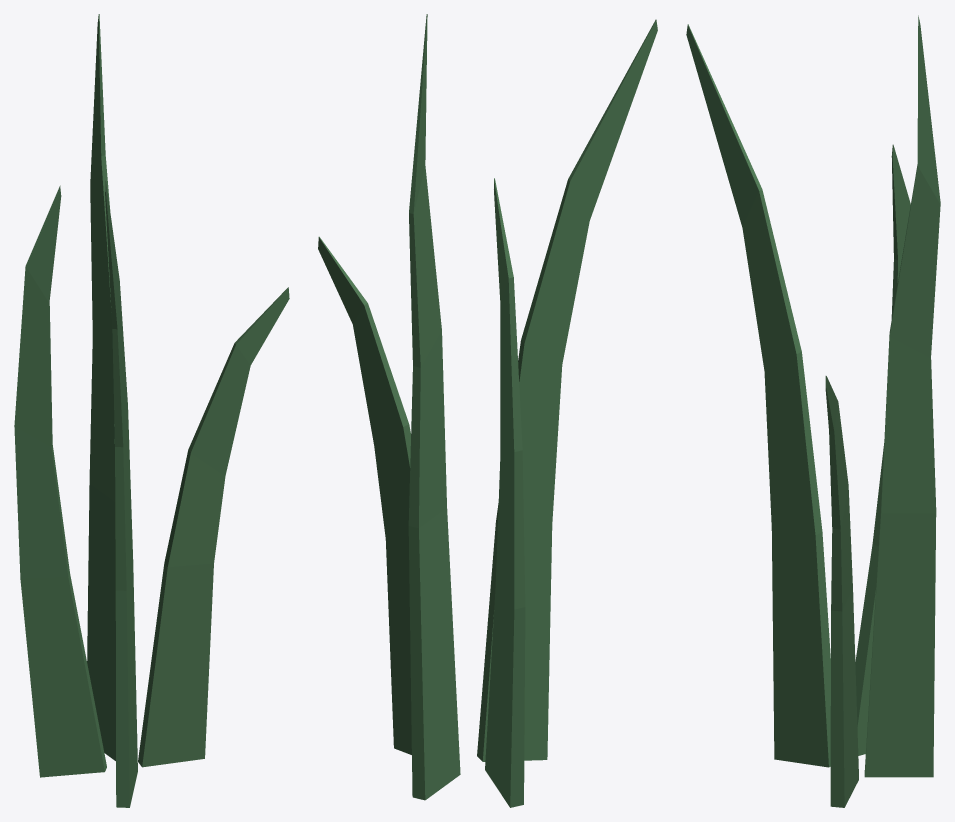
The model's file is PlainsGrass(1).fbx.
The picture shows the model from 3 angles, left to right: view 1: azimuth 30°, elevation 25°; view 2: azimuth 150°, elevation 25°; view 3: azimuth 270°, elevation 25°; orthographic projection. The views are drawn at different scales.
Parts seen in each view (by area): view 1: PlainsGrass(1); view 2: PlainsGrass(1); view 3: PlainsGrass(1).
Part boxes in pixels (box(x1,y1,x2,y2)): PlainsGrass(1): box(14, 14, 289, 807); PlainsGrass(1): box(318, 14, 657, 807); PlainsGrass(1): box(686, 15, 940, 807).
Bounding box in the file's own units: 0.4623 × 1.29 × 0.3888.
